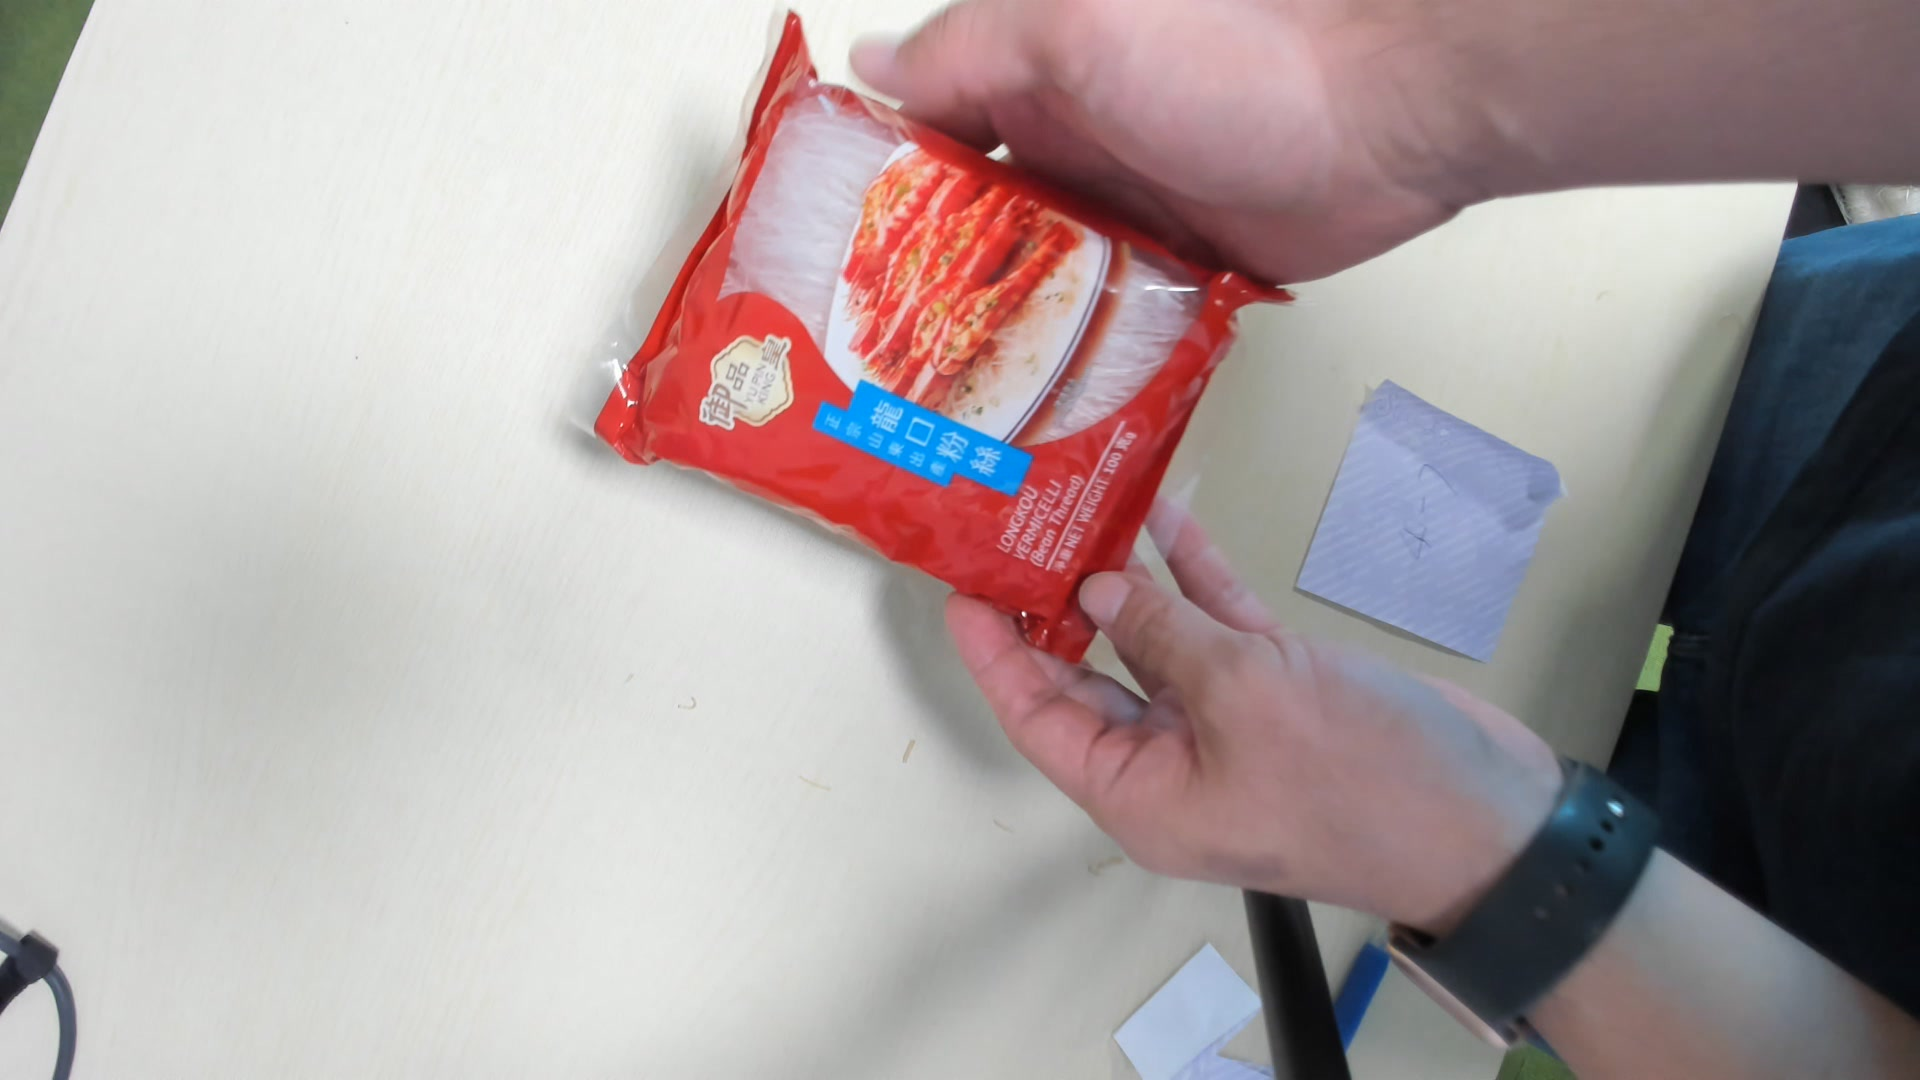BeeHoonVermicelli_100-199g_NonHalal_NonHealthy: (568, 51, 1253, 650)
